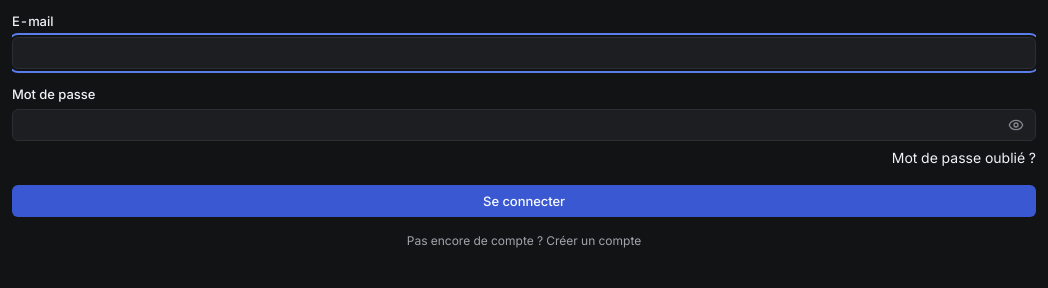
Test: <LoginForm> › surfaces a LOCALIZED invalid-email message (not the default Zod string)
In the field labelled "E-mail": (524, 53) [12, 37, 1036, 69], type "not-an-email"
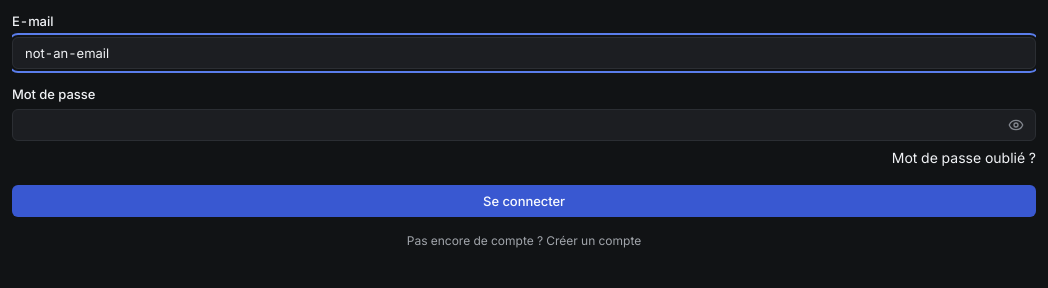
In the password field labelled "Mot de passe": (524, 125) [12, 109, 1036, 141], type "hunter2"
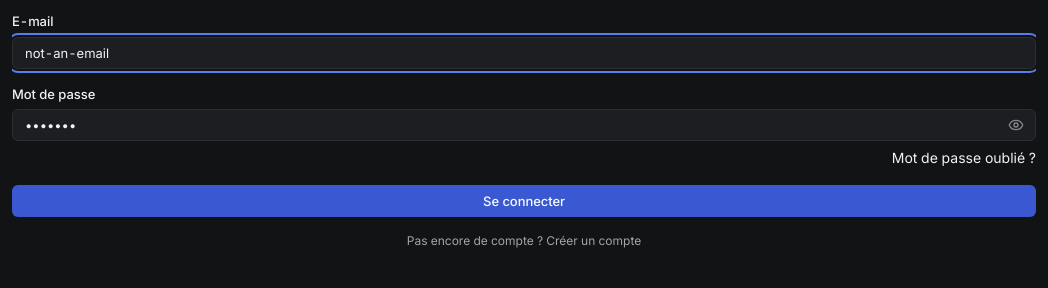
Click the button "Se connecter": (524, 201) [12, 185, 1036, 217]
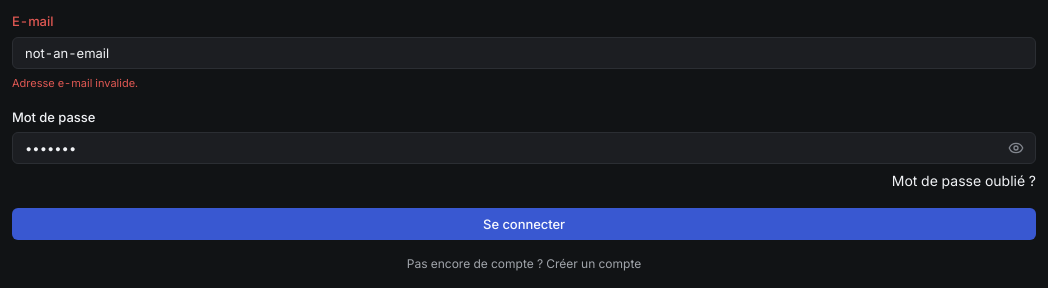
Now the text "Adresse e-mail invalide." is shown, box [12, 76, 138, 90]
